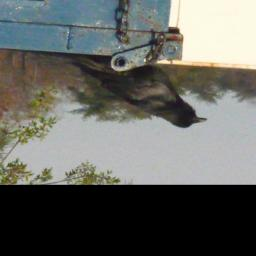Crow: (72, 57, 209, 130)
